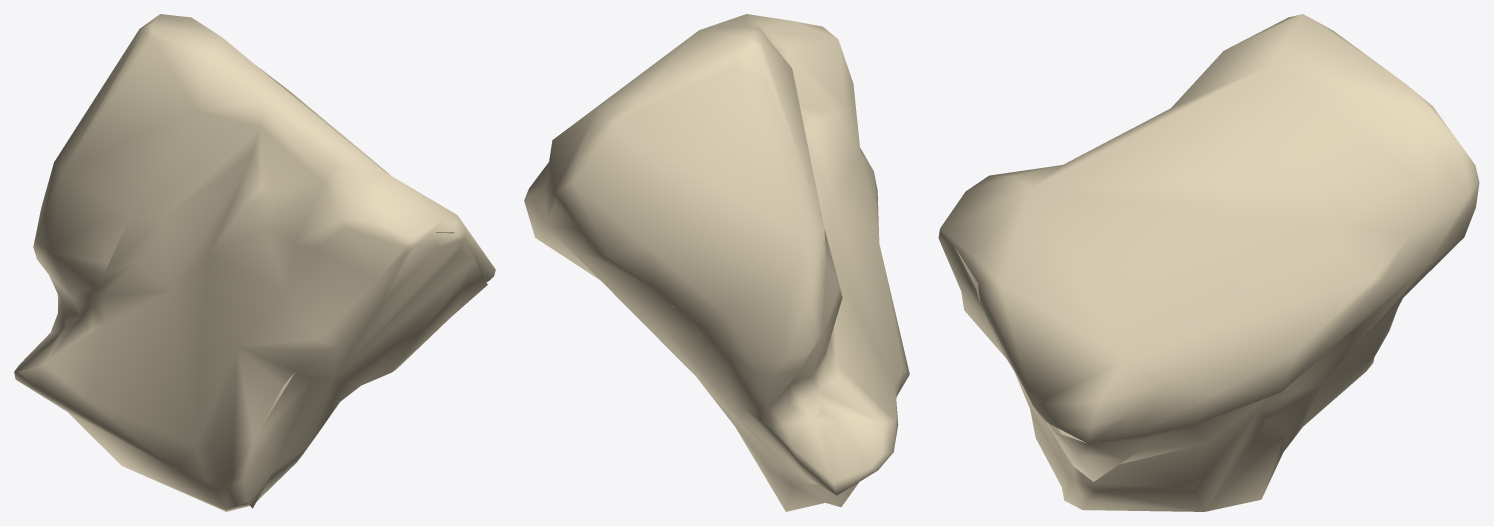
File: esqueleto-lateral-cuneiform-bone-l.glb
3 views of the same model, side by side, from view 1: azimuth 30°, elevation 25°; view 2: azimuth 150°, elevation 25°; view 3: azimuth 270°, elevation 25° (orthographic). The views are drawn at different scales.
Parts seen in each view (by area): view 1: Lateral cuneiform bone.l; view 2: Lateral cuneiform bone.l; view 3: Lateral cuneiform bone.l.
Boxes of the visible parts, x1,y1,x2,y2 form: Lateral cuneiform bone.l: (14,14,495,511); Lateral cuneiform bone.l: (524,14,909,511); Lateral cuneiform bone.l: (938,14,1479,511).
Size of the model in its own units: 0.0241 by 0.0269 by 0.0265.
